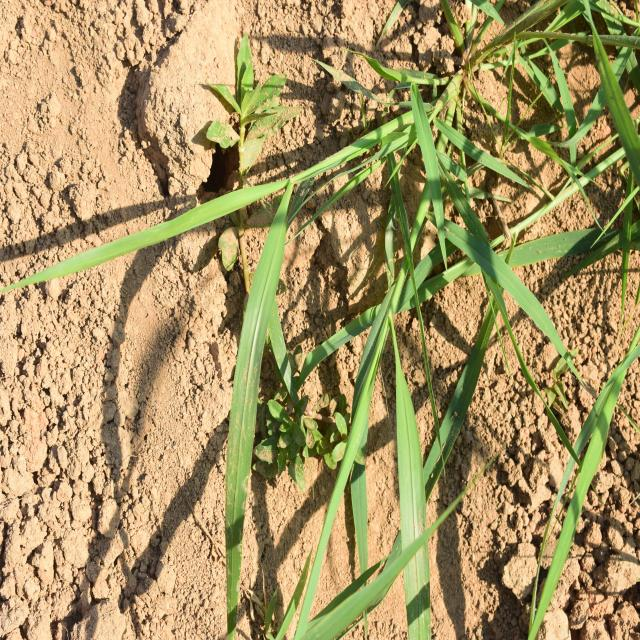green_foxtail: (162, 128, 488, 583)
